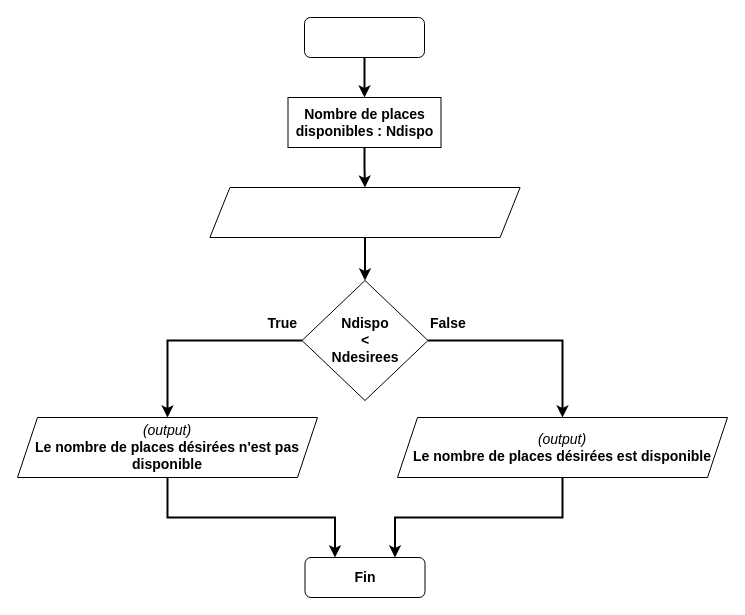
Some shapes in this 745 by 615 pixel diagram are drawn without their labels. The centre of each missing label's shape, as x and y in pixels:
"(input) combien souhaitez-vous de places : Ndesirees" goes at [364,212].
"Début" goes at [364,37].
